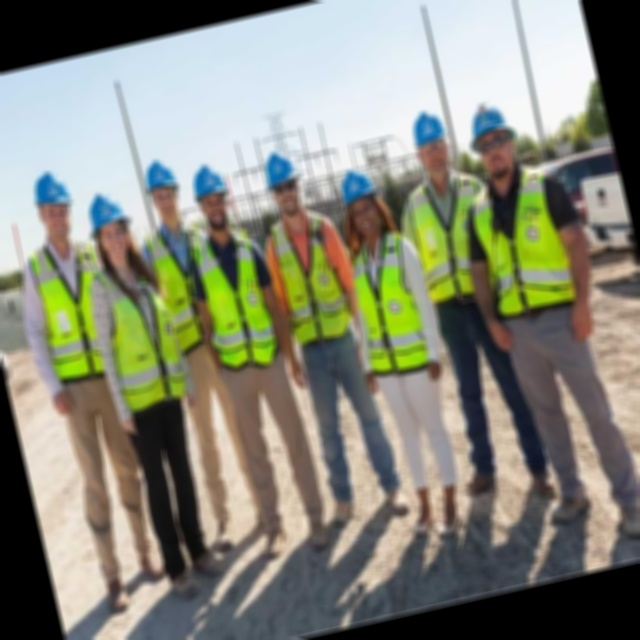Con_Casco: (405, 107, 455, 181), (188, 160, 236, 231), (140, 155, 186, 226)
Con_Chaleco: (467, 163, 578, 318), (89, 258, 190, 412), (406, 170, 505, 309), (29, 234, 124, 377), (191, 225, 282, 371), (348, 228, 437, 375), (267, 206, 353, 345), (142, 219, 228, 346)
